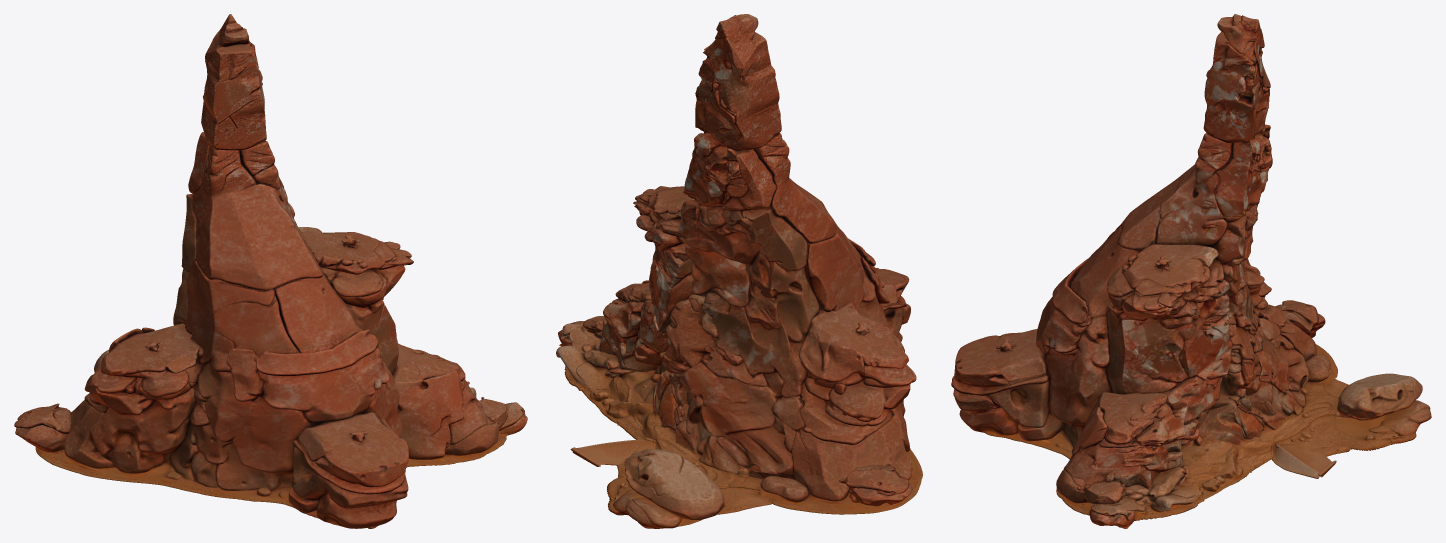
File: mars_spire.glb
3 renders of one model, left to right at view 1: azimuth 30°, elevation 25°; view 2: azimuth 150°, elevation 25°; view 3: azimuth 270°, elevation 25°, orthographic. The views are drawn at different scales.
Visible parts, largest first — view 1: tripo_node_01233964-c3f0-4f01-997c-27c1419e4308; view 2: tripo_node_01233964-c3f0-4f01-997c-27c1419e4308; view 3: tripo_node_01233964-c3f0-4f01-997c-27c1419e4308.
Part boxes in pixels (<box>): tripo_node_01233964-c3f0-4f01-997c-27c1419e4308: <box>14,14,527,528</box>; tripo_node_01233964-c3f0-4f01-997c-27c1419e4308: <box>556,14,922,528</box>; tripo_node_01233964-c3f0-4f01-997c-27c1419e4308: <box>951,14,1431,528</box>.
Size of the model in its own units: 0.9802 by 0.9199 by 0.9813.
Materials: 1 (1 with a texture image).
